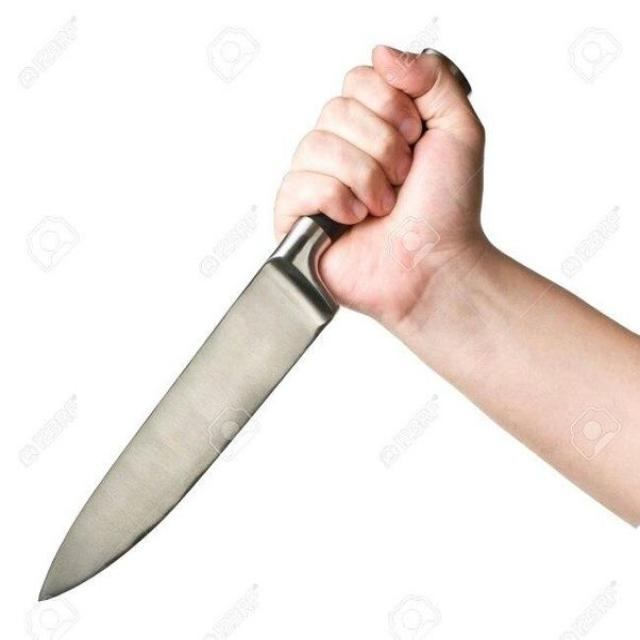knife: (35, 44, 472, 606)
